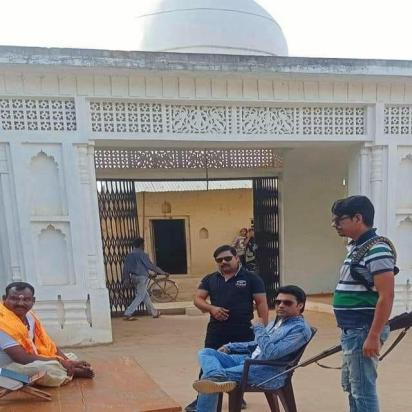Gun: (248, 310, 412, 392)
